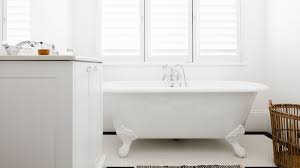bathub: (98, 74, 268, 167)
